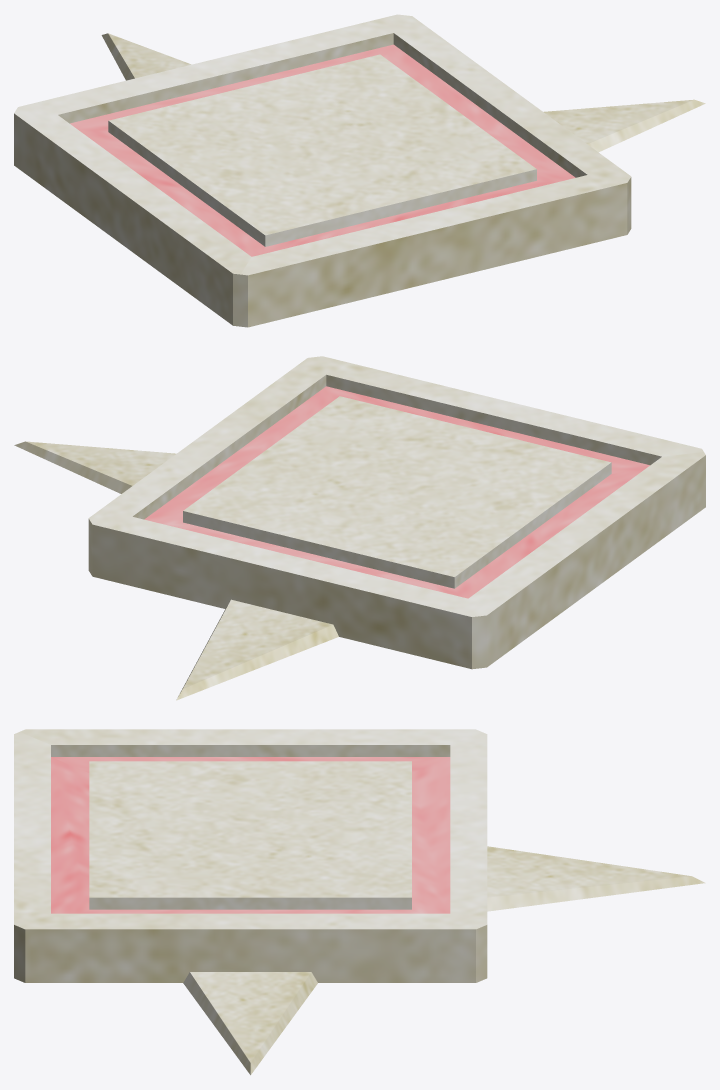
Rendered from Select.fbx.
3 renders of one model, top to bottom at view 1: azimuth 30°, elevation 25°; view 2: azimuth 150°, elevation 25°; view 3: azimuth 270°, elevation 25°, orthographic. The views are drawn at different scales.
Visible parts, largest first — view 1: NGon001; view 2: NGon001; view 3: NGon001.
Boxes of the visible parts, x1,y1,x2,y2 form: NGon001: (14,14,705,327); NGon001: (14,356,705,700); NGon001: (14,729,705,1075).
Size of the model in its own units: 46.05 by 3.94 by 46.05.
Materials: 1 (1 with a texture image).
